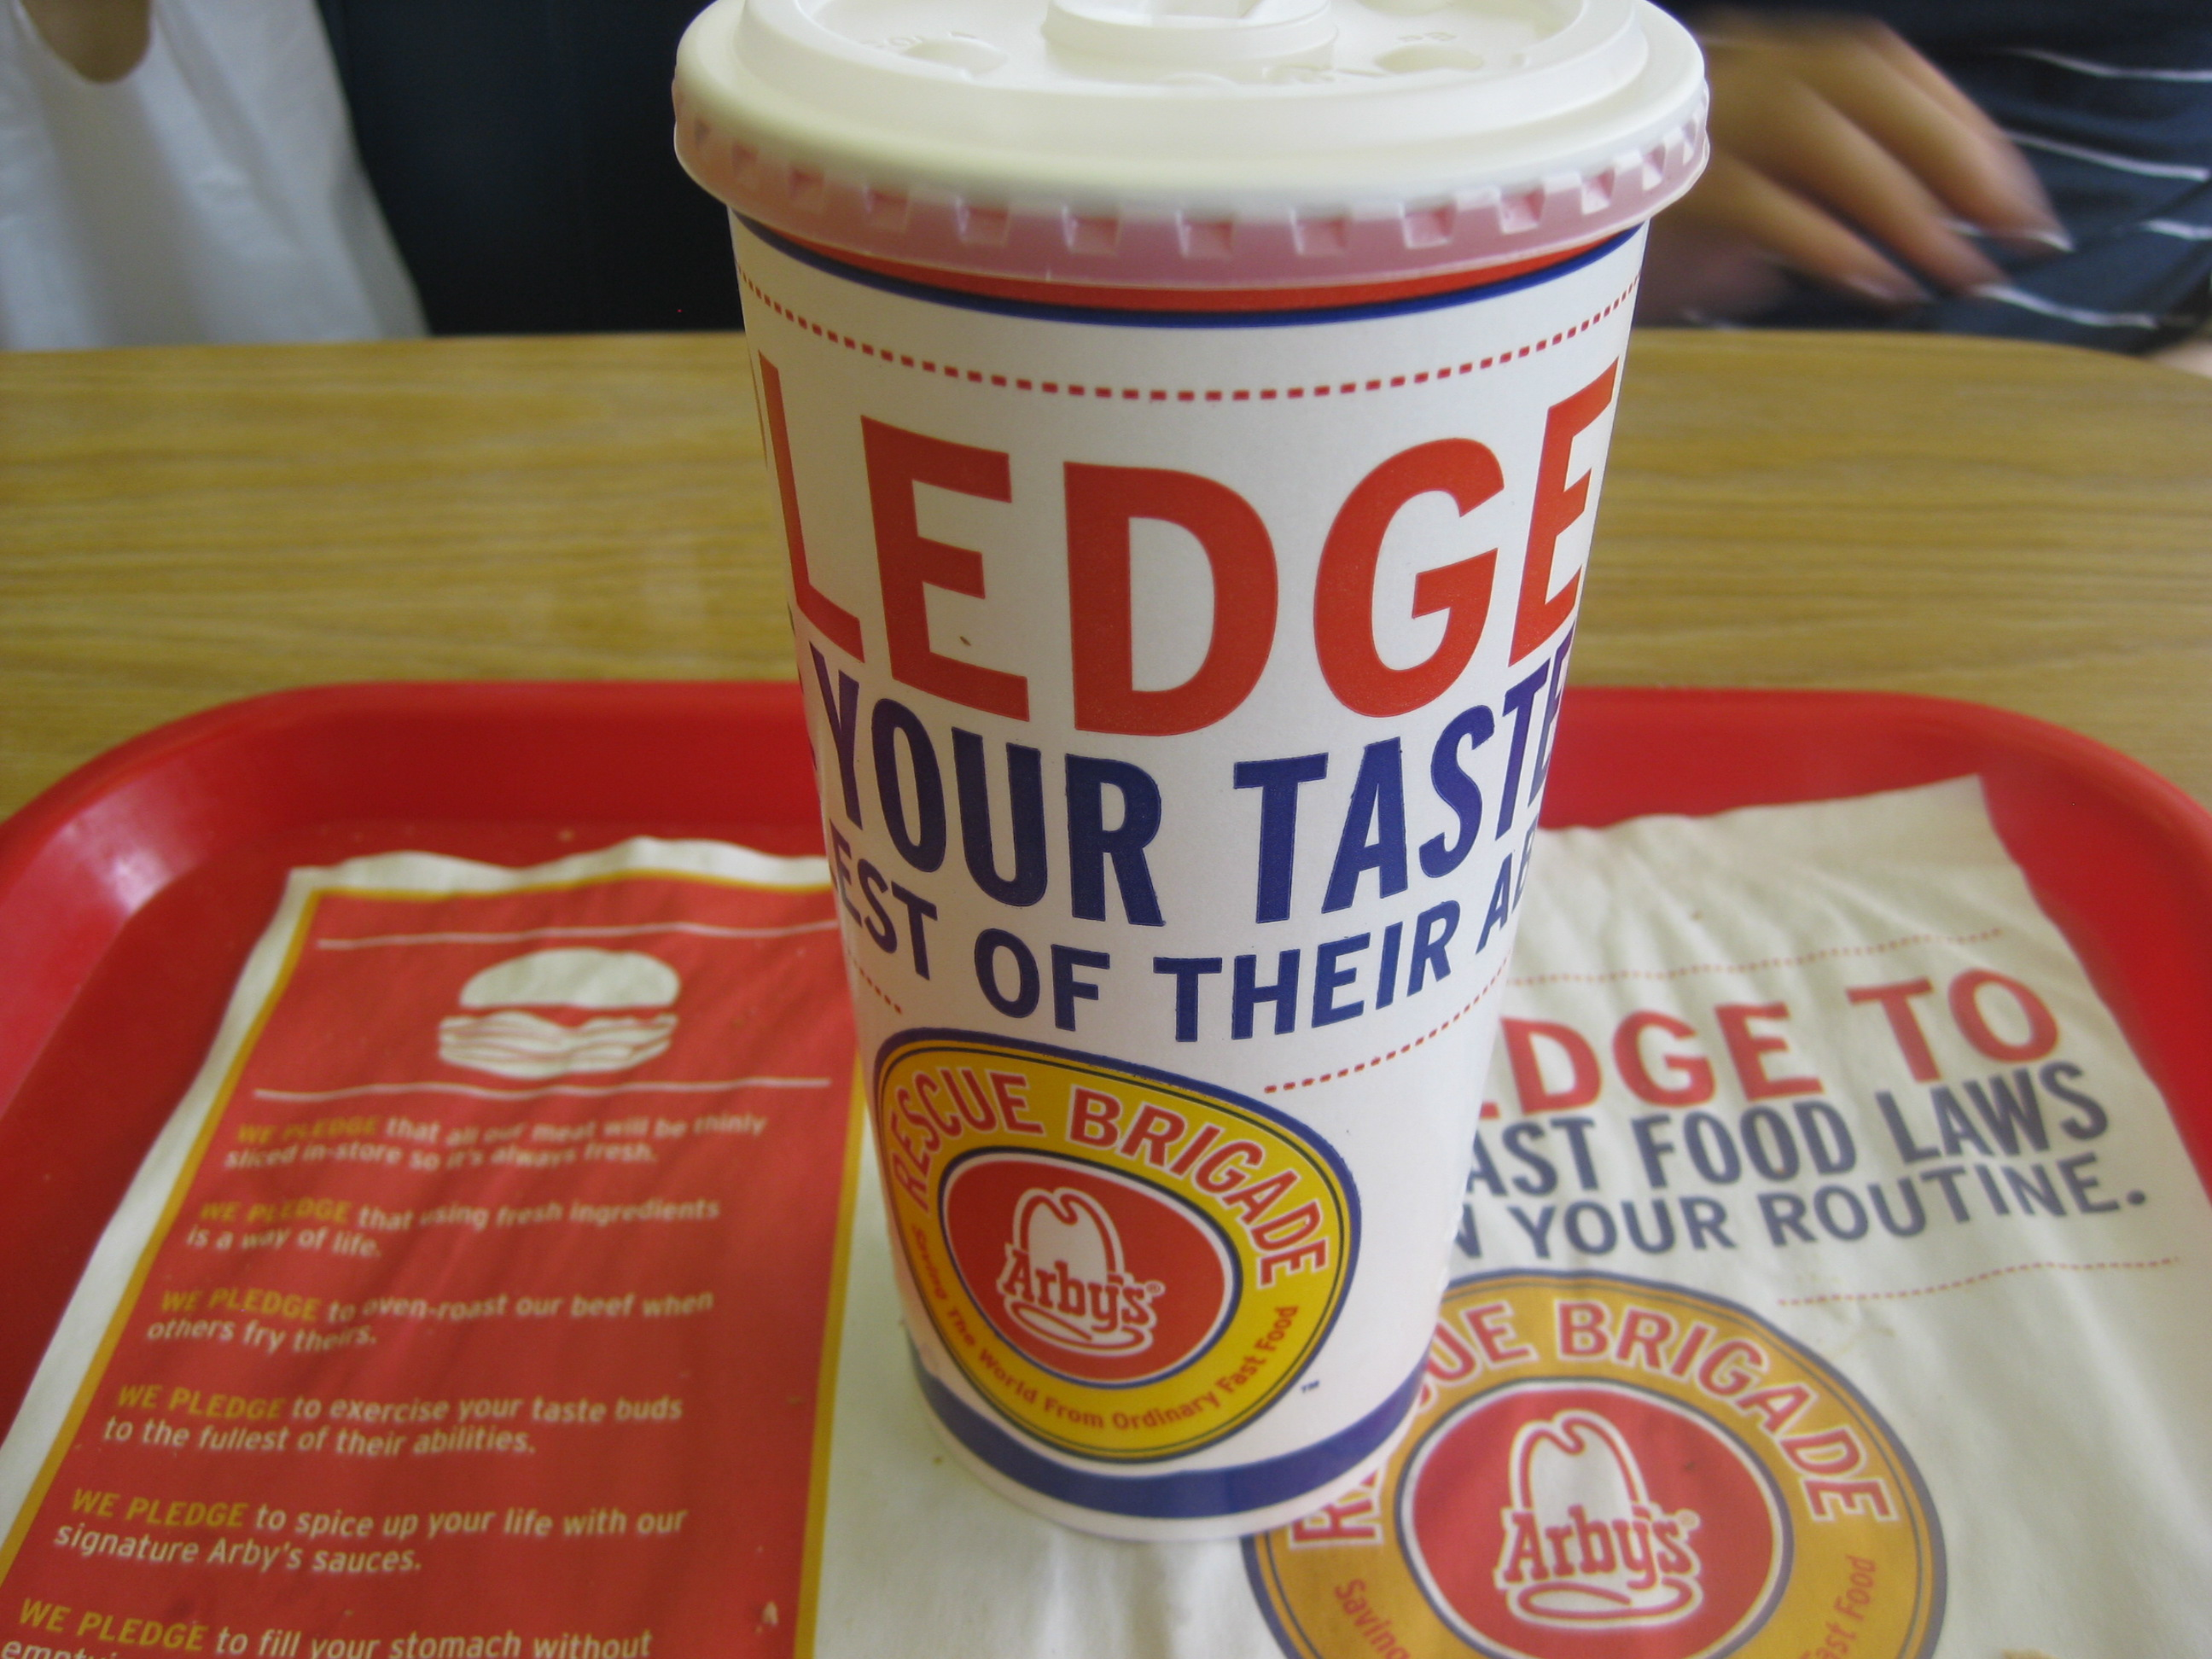drink: (635, 6, 1796, 1576)
